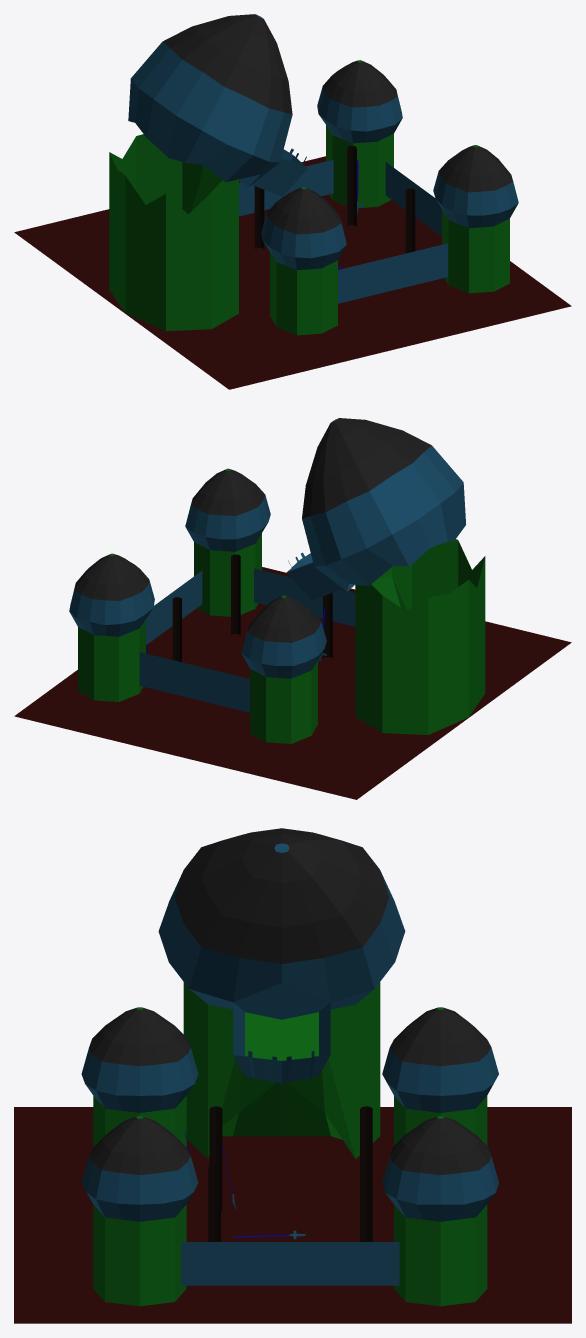
Rendered from SwordsSmith1d.obj.
The picture shows the model from 3 angles, top to bottom: view 1: azimuth 30°, elevation 25°; view 2: azimuth 150°, elevation 25°; view 3: azimuth 270°, elevation 25°; orthographic projection. The views are drawn at different scales.
Parts seen in each view (by area): view 1: Plane, Cube, Plane.004, Plane.001, Plane.002, Plane.007, Plane.008, Plane.003, Cube.002, Cube.001, Cube.003; view 2: Plane, Cube, Plane.005, Plane.002, Plane.001, Plane.008, Plane.007, Plane.003, Cube.001, Cube.002, Cube.004; view 3: Cube, Plane, Plane.002, Plane.001, Plane.004, Plane.005, Plane.003, Cube.001, Cube.002, Cube.004, Cube.003.
Part boxes in pixels (x1=…): Plane: x1=109, y1=14, x2=307, y2=331; Cube: x1=14, y1=156, x2=571, y2=389; Plane.004: x1=261, y1=187, x2=346, y2=335; Plane.001: x1=433, y1=145, x2=518, y2=293; Plane.002: x1=317, y1=60, x2=402, y2=207; Plane.007: x1=338, y1=243, x2=447, y2=303; Plane.008: x1=239, y1=159, x2=333, y2=216; Plane.003: x1=385, y1=162, x2=441, y2=236; Cube.002: x1=347, y1=145, x2=356, y2=227; Cube.001: x1=405, y1=188, x2=415, y2=253; Cube.003: x1=254, y1=186, x2=264, y2=249; Plane: x1=286, y1=418, x2=485, y2=734; Cube: x1=14, y1=567, x2=571, y2=799; Plane.005: x1=241, y1=595, x2=326, y2=743; Plane.002: x1=69, y1=553, x2=154, y2=701; Plane.001: x1=185, y1=468, x2=270, y2=616; Plane.008: x1=139, y1=652, x2=249, y2=712; Plane.007: x1=254, y1=568, x2=355, y2=626; Plane.003: x1=146, y1=571, x2=202, y2=644; Cube.001: x1=231, y1=554, x2=240, y2=635; Cube.002: x1=172, y1=597, x2=181, y2=662; Cube.004: x1=323, y1=593, x2=332, y2=658; Cube: x1=14, y1=1107, x2=571, y2=1323; Plane: x1=158, y1=828, x2=405, y2=1158; Plane.002: x1=382, y1=1116, x2=498, y2=1306; Plane.001: x1=81, y1=1116, x2=198, y2=1306; Plane.004: x1=81, y1=1007, x2=198, y2=1147; Plane.005: x1=382, y1=1007, x2=498, y2=1145; Plane.003: x1=181, y1=1242, x2=399, y2=1285; Cube.001: x1=208, y1=1165, x2=220, y2=1241; Cube.002: x1=360, y1=1165, x2=372, y2=1241; Cube.004: x1=209, y1=1106, x2=222, y2=1211; Cube.003: x1=360, y1=1106, x2=372, y2=1167.
Bounding box in the file's own units: 1.23 × 0.9153 × 1.33.
